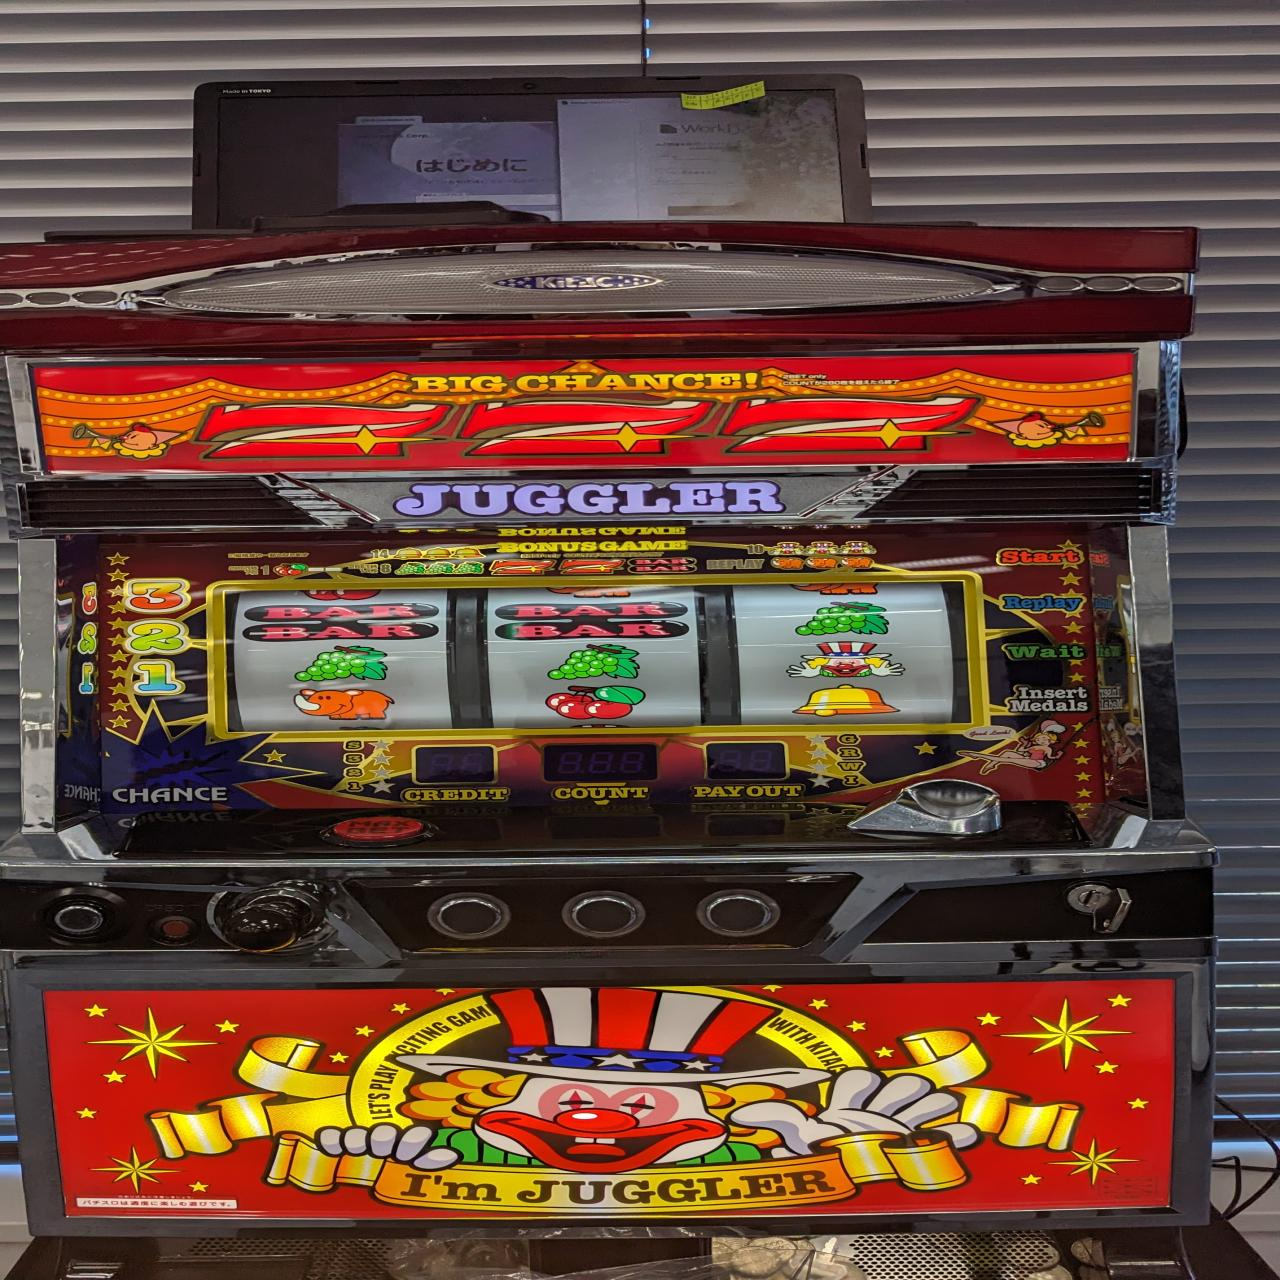8: (279, 685, 400, 723)
Display: (213, 584, 968, 729)
bar: (493, 599, 688, 645), (237, 600, 443, 642)
bell: (782, 682, 905, 722)
cherry: (535, 683, 655, 719)
clown: (770, 639, 921, 680)
grape: (542, 642, 647, 683), (290, 642, 393, 683), (788, 599, 896, 636)
